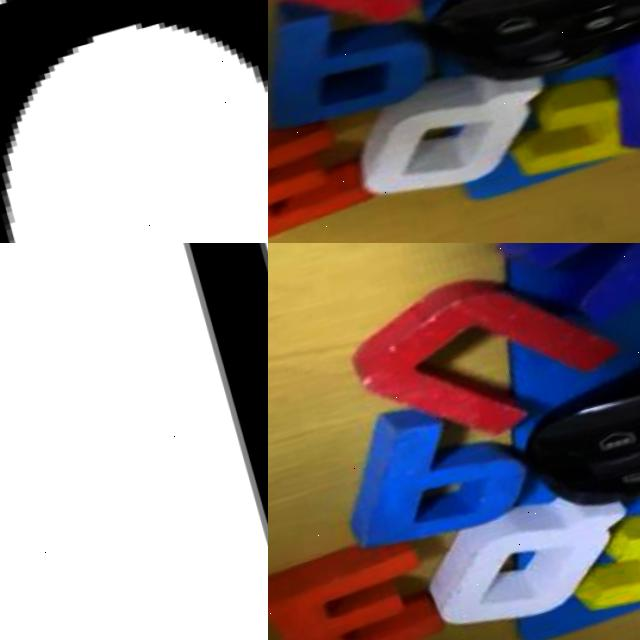B: (584, 0, 640, 176)
E: (268, 509, 488, 640), (268, 87, 389, 243)
I: (140, 243, 268, 640)
P: (312, 382, 532, 564), (268, 0, 450, 140)
Q: (416, 480, 640, 640), (348, 58, 550, 209)
U: (340, 243, 640, 470), (268, 0, 529, 56)
